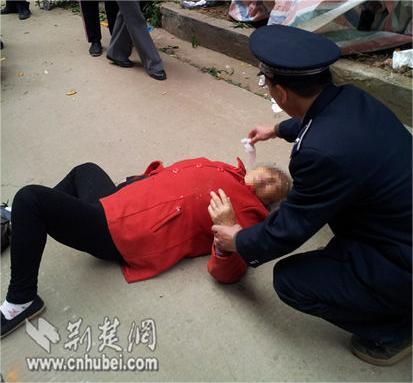bending: (245, 15, 413, 366)
down: (1, 151, 295, 326)
